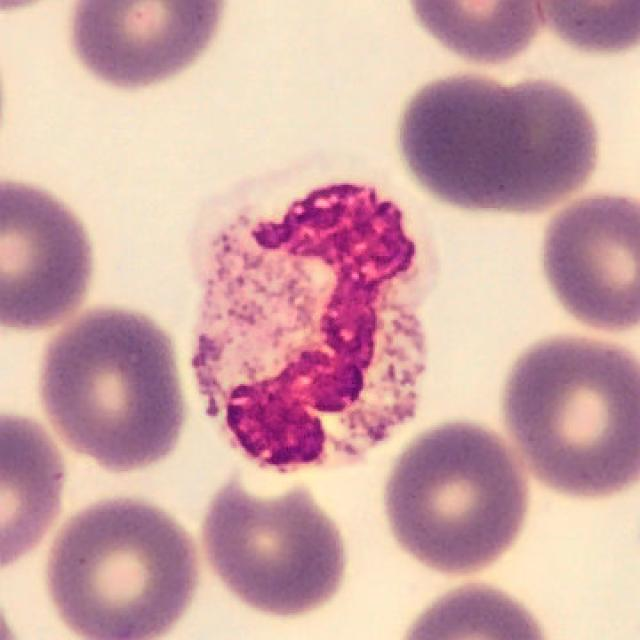Neutrofilo segmentado: (190, 162, 439, 471)
